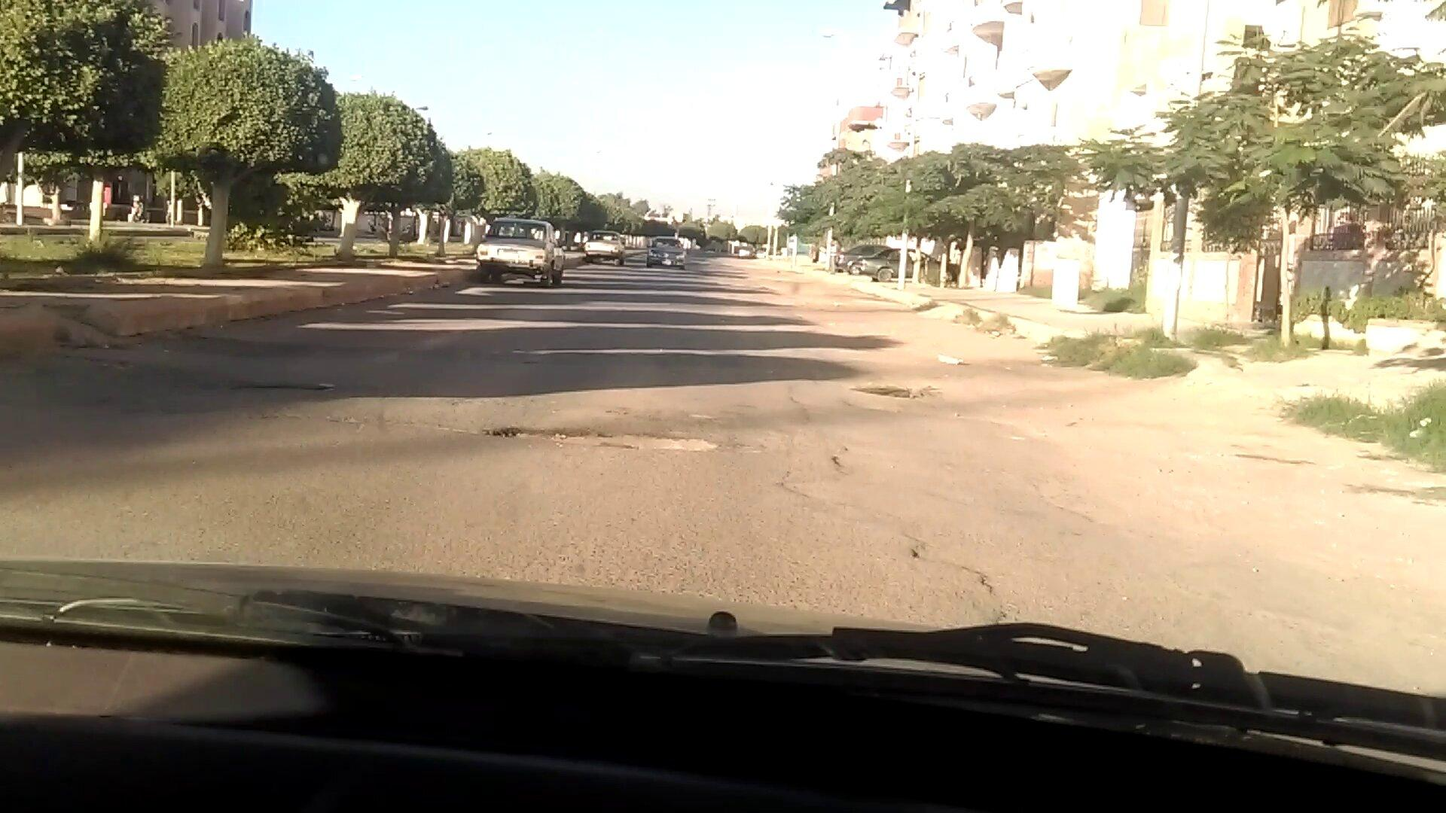Pothole: (474, 428, 720, 452), (853, 380, 926, 401), (232, 378, 333, 389)
